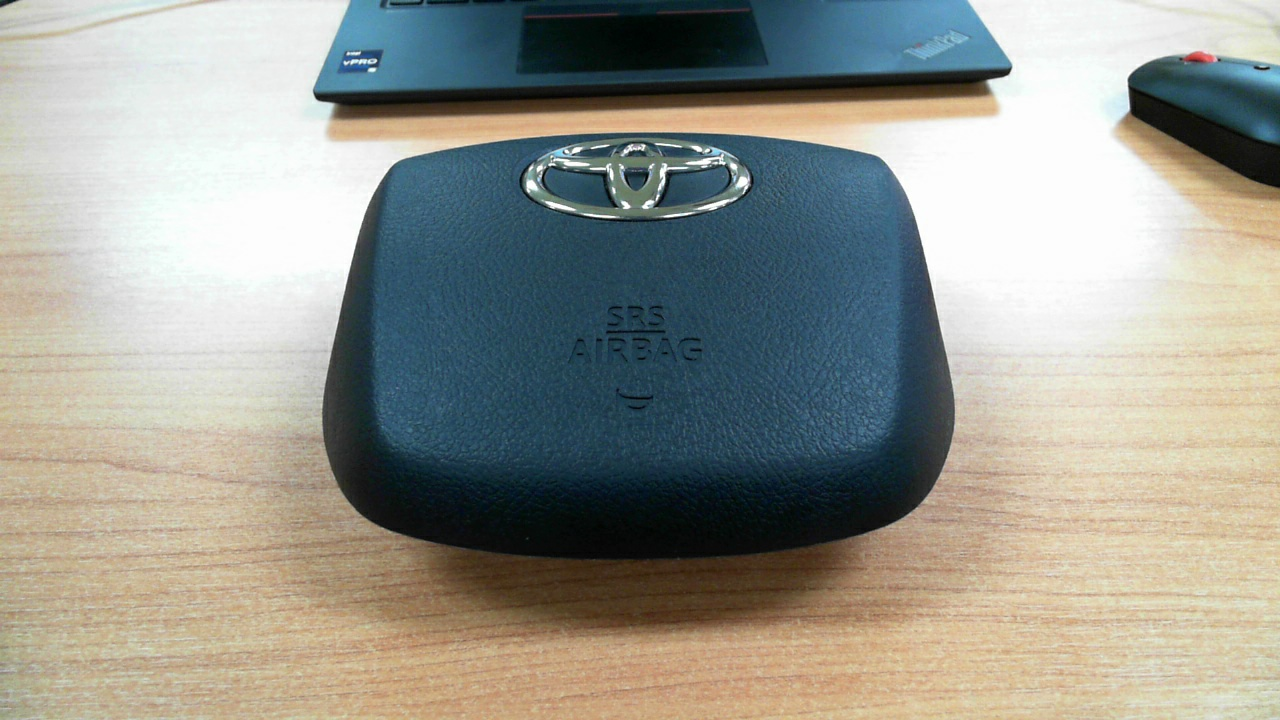Airbag: (313, 93, 966, 626)
